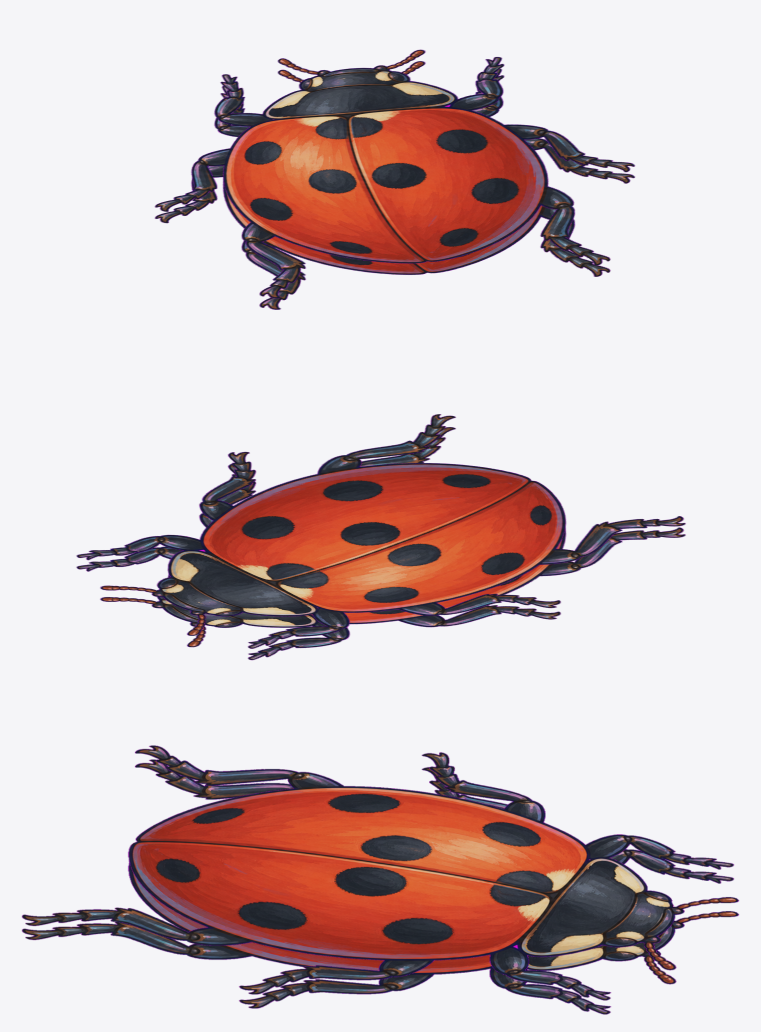
Rendered from ladybug.glb.
3 renders of one model, top to bottom at view 1: azimuth 30°, elevation 25°; view 2: azimuth 150°, elevation 25°; view 3: azimuth 270°, elevation 25°, orthographic. The views are drawn at different scales.
Visible parts, largest first — view 1: ladybug; view 2: ladybug; view 3: ladybug.
Part boxes in pixels (<box>): ladybug: <box>154,49,634,309</box>; ladybug: <box>76,414,685,660</box>; ladybug: <box>22,745,738,1014</box>.
Bounding box in the file's own units: 2 × 0.05 × 2.37.
1 material, 1 textured.
